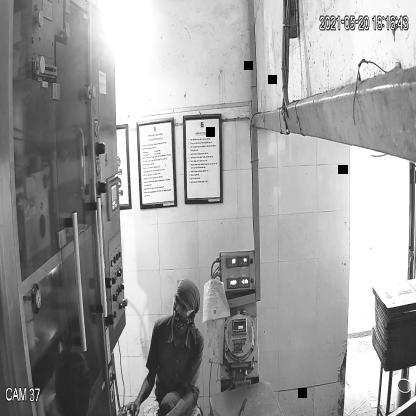goggles: (170, 294, 196, 318)
